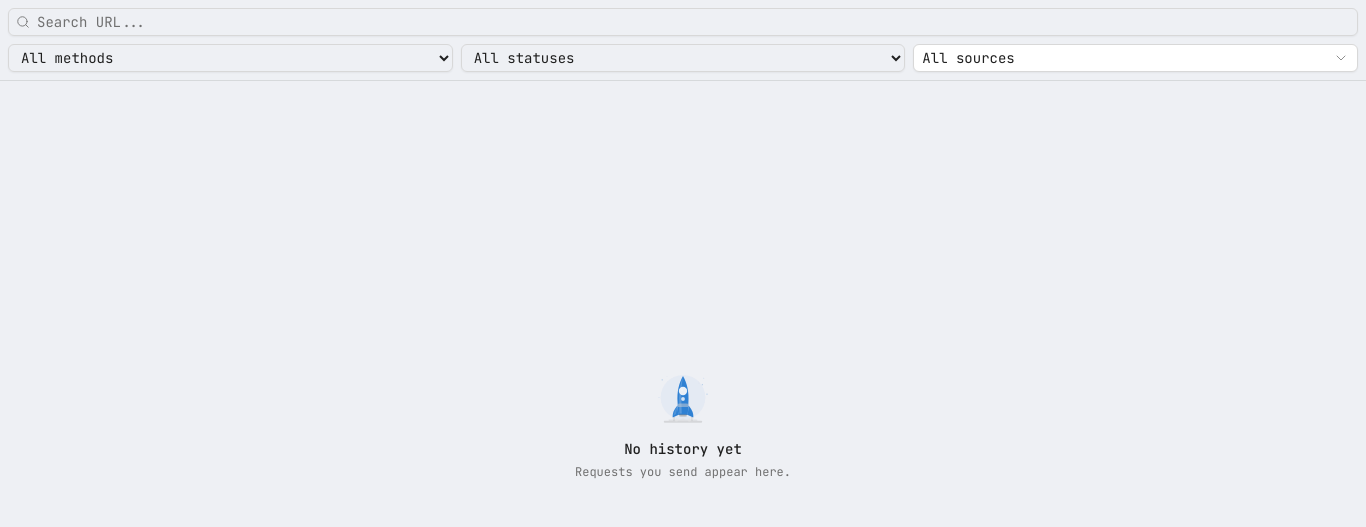
Test case: HistoryPanel empty states › blames the filter, not the history, when a filter hides every entry
Expected: the text "No history yet" is shown, [624, 440, 742, 458]
Type "orders" into the field with placeholder "Search URL..." at (683, 22), box [8, 8, 1358, 36]
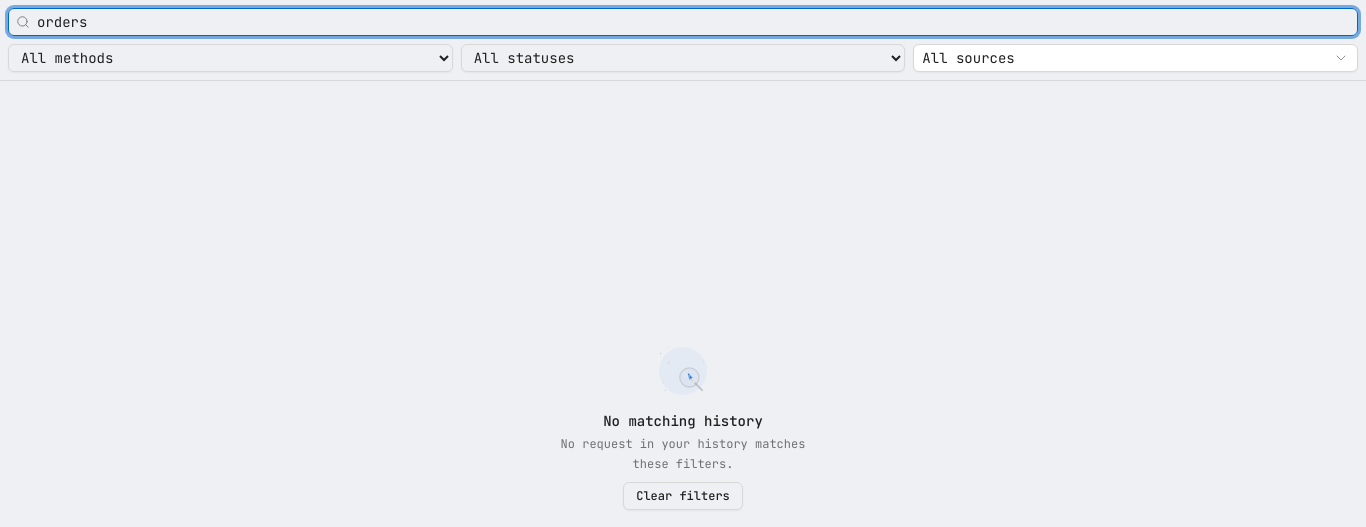
Now the text "No history yet" is gone
